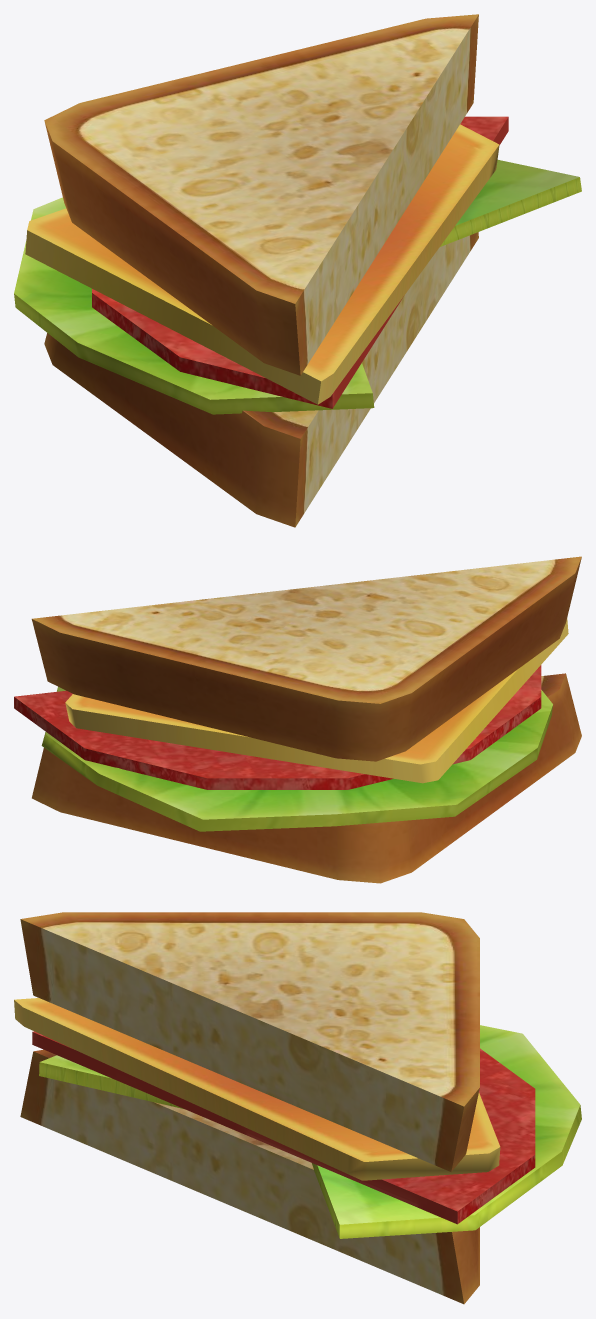
File: Veseli grad dodatak sendvic 1. mart.fbx
3 views of the same model, one above another, from view 1: azimuth 30°, elevation 25°; view 2: azimuth 150°, elevation 25°; view 3: azimuth 270°, elevation 25° (orthographic). The views are drawn at different scales.
Parts seen in each view (by area): view 1: SE_Sandwich_02; view 2: SE_Sandwich_02; view 3: SE_Sandwich_02.
Boxes of the visible parts, x1,y1,x2,y2 form: SE_Sandwich_02: (14, 14, 581, 527); SE_Sandwich_02: (14, 556, 581, 883); SE_Sandwich_02: (14, 912, 581, 1304).
Bounding box in the file's own units: 169 × 66 × 172.
1 material, 1 textured.
